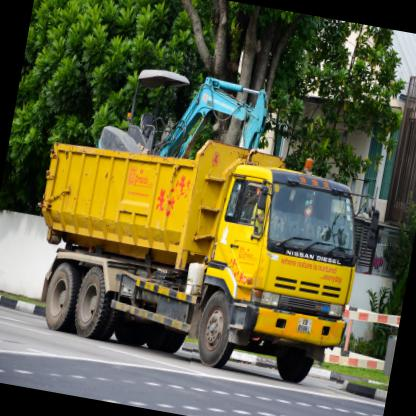truck: (190, 157, 373, 395)
